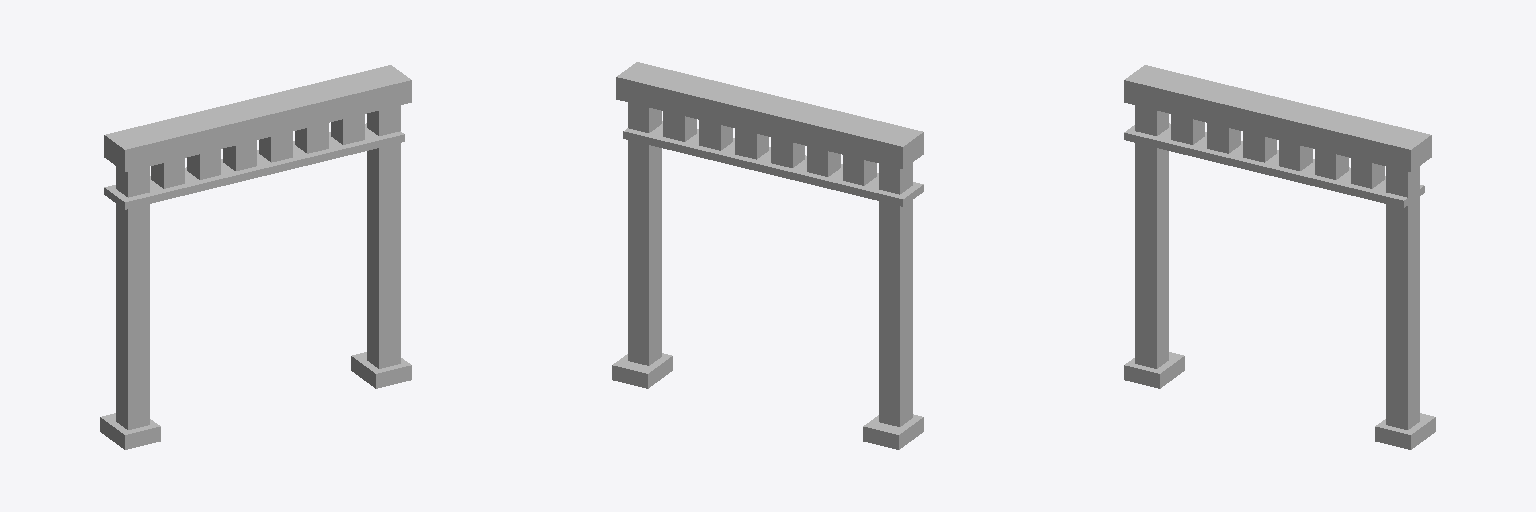
Rendered from column1.obj.
3 views of the same model, side by side, from view 1: azimuth 30°, elevation 25°; view 2: azimuth 150°, elevation 25°; view 3: azimuth 330°, elevation 25° (orthographic).
Parts seen in each view (by area): view 1: column1; view 2: column1; view 3: column1.
Boxes of the visible parts, x1,y1,x2,y2 form: column1: [100, 65, 411, 449]; column1: [612, 62, 923, 449]; column1: [1124, 65, 1435, 449].
Bounding box in the file's own units: 40 × 40 × 6.